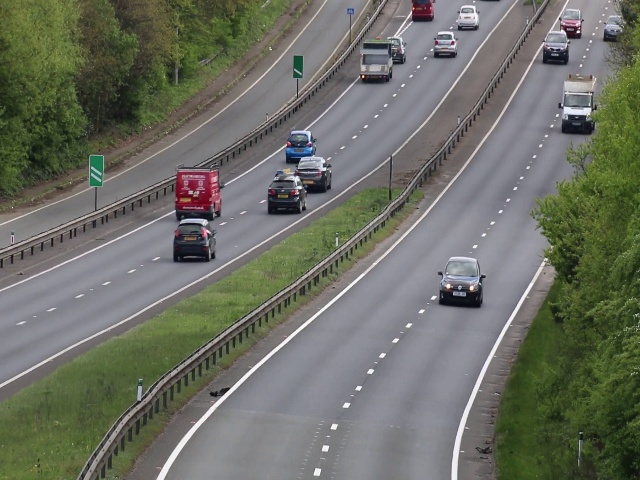car: (172, 165, 223, 218), (559, 74, 597, 134), (440, 254, 484, 305), (173, 219, 217, 263), (268, 169, 308, 215), (359, 39, 393, 84), (296, 155, 332, 191), (286, 127, 316, 163), (541, 30, 569, 62), (559, 8, 584, 38), (432, 29, 458, 57), (604, 11, 624, 44), (456, 3, 478, 29), (411, 1, 436, 22), (391, 36, 405, 63)
